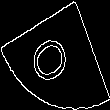O_NE: (30, 24, 80, 86)
